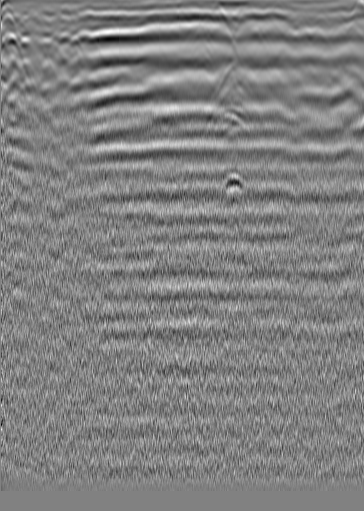가스: (218, 169, 250, 200)
상수: (307, 22, 327, 42)
오수: (18, 8, 38, 28)
우수: (166, 23, 186, 43)
